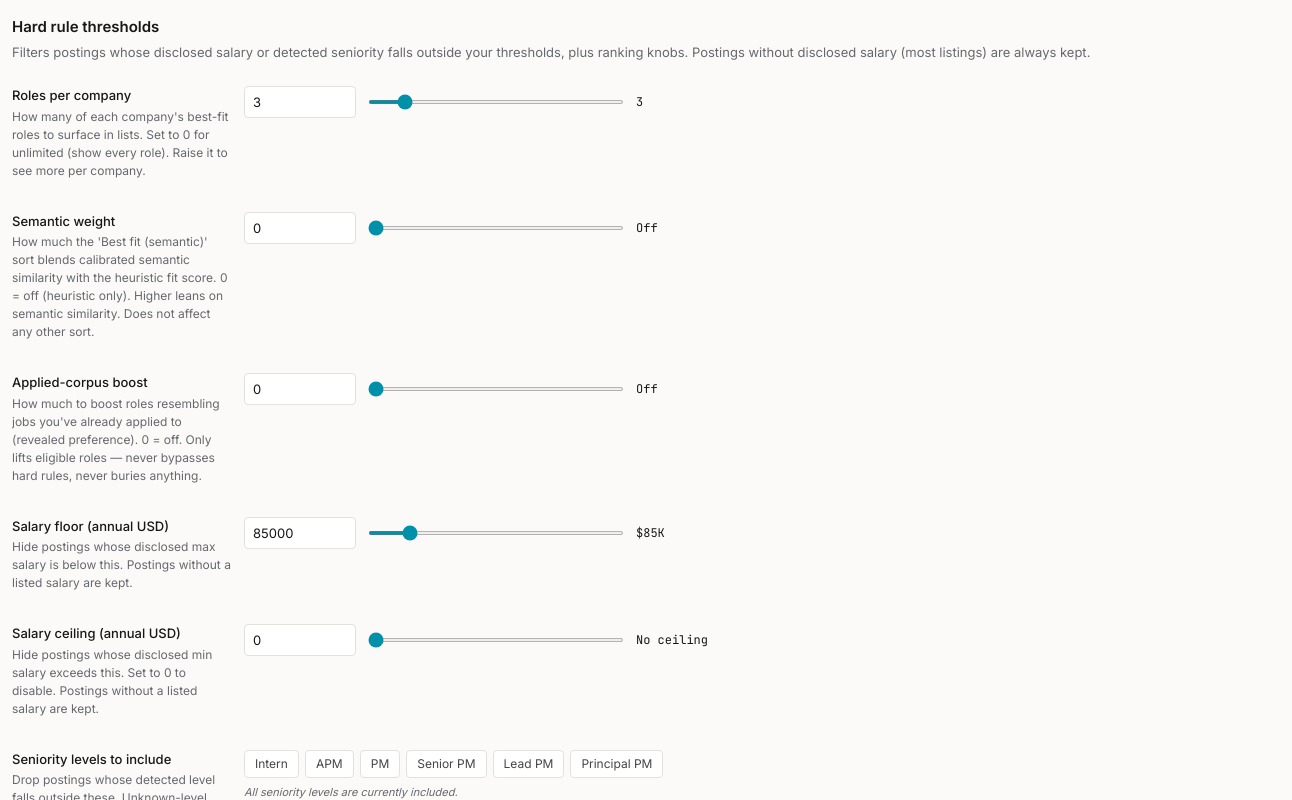
Scenario: HardRulesSection — PR #43 controls › selecting then unselecting a chip restores empty state
This screenshot has width=1292, height=800.
Click the button "APM". click: (329, 764)
box: [305,750,354,778]
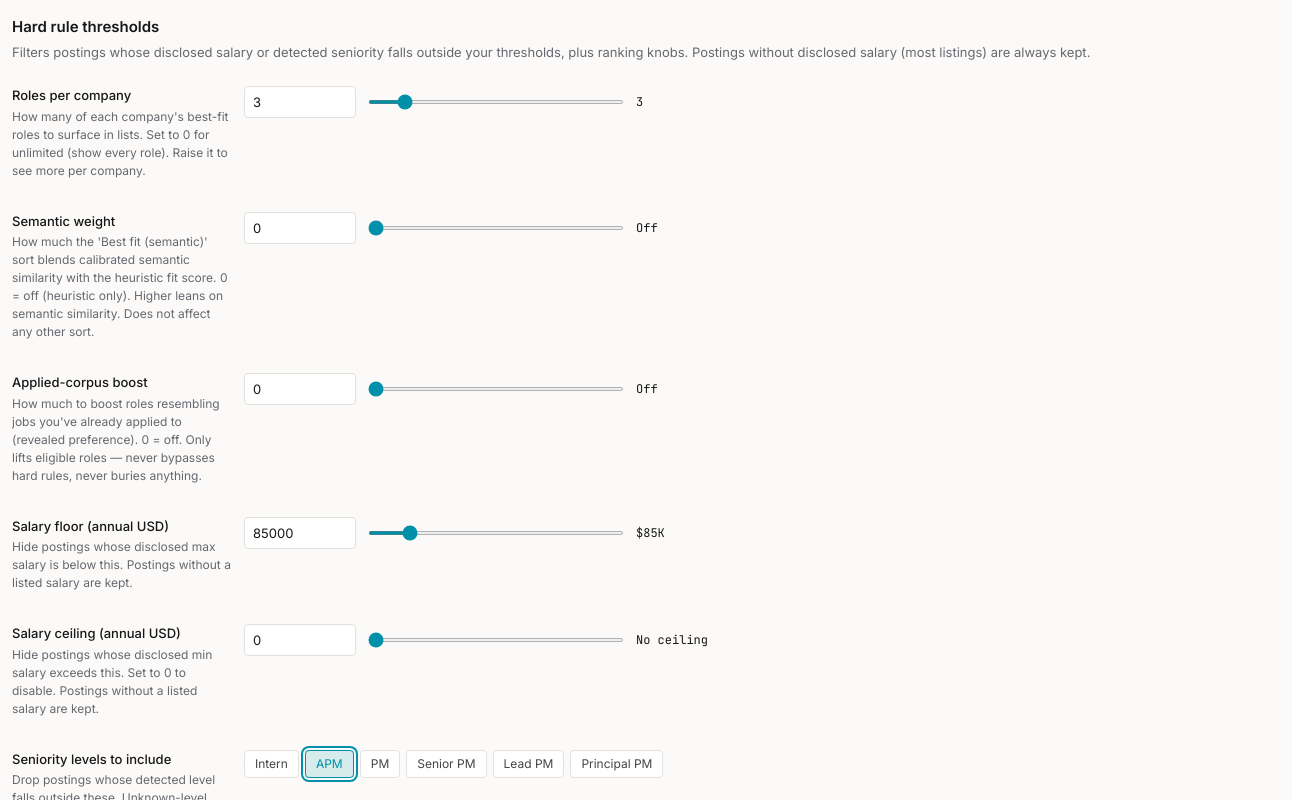
Click the button "APM". click: (329, 764)
box: [305,750,354,778]
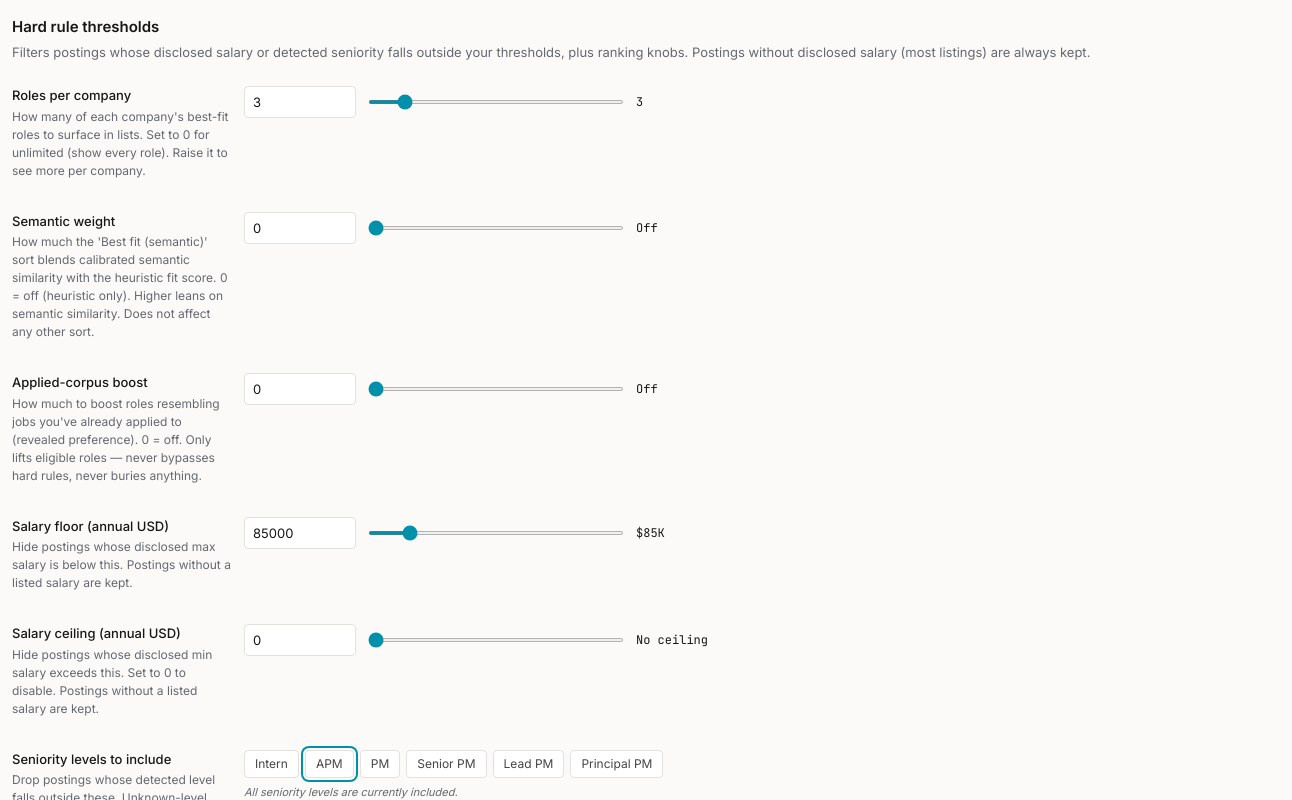
expect the text "All seniority levels are currently included." is shown: met, box [244,784,458,798]
